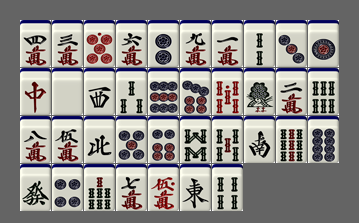0m: (148, 164, 179, 211)
0p: (84, 20, 115, 67)
0s: (212, 68, 243, 115)
1m: (212, 20, 243, 67)
1p: (308, 20, 339, 67)
1s: (244, 68, 275, 115)
1z: (180, 164, 211, 211)
2m: (276, 68, 307, 115)
2p: (148, 20, 179, 67)
2s: (244, 20, 275, 67)
2z: (244, 116, 275, 163)
3m: (52, 20, 83, 67)
3p: (276, 20, 307, 67)
3s: (116, 68, 147, 115)
3z: (84, 68, 115, 115)
4m: (20, 20, 51, 67)
4p: (52, 164, 83, 211)
4s: (212, 164, 243, 211)
4z: (84, 116, 115, 163)
5m: (52, 116, 83, 163)
5p: (116, 116, 147, 163)
5s: (212, 116, 243, 163)
5z: (52, 68, 83, 115)
6m: (116, 20, 147, 67)
6p: (148, 116, 179, 163)
6s: (308, 68, 339, 115)
6z: (20, 164, 51, 211)
7m: (116, 164, 147, 211)
7p: (180, 68, 211, 115)
7s: (84, 164, 115, 211)
7z: (20, 68, 51, 115)
8m: (20, 116, 51, 163)
8p: (308, 116, 339, 163)
8s: (180, 116, 211, 163)
9m: (180, 20, 211, 67)
9p: (148, 68, 179, 115)
9s: (276, 116, 307, 163)
